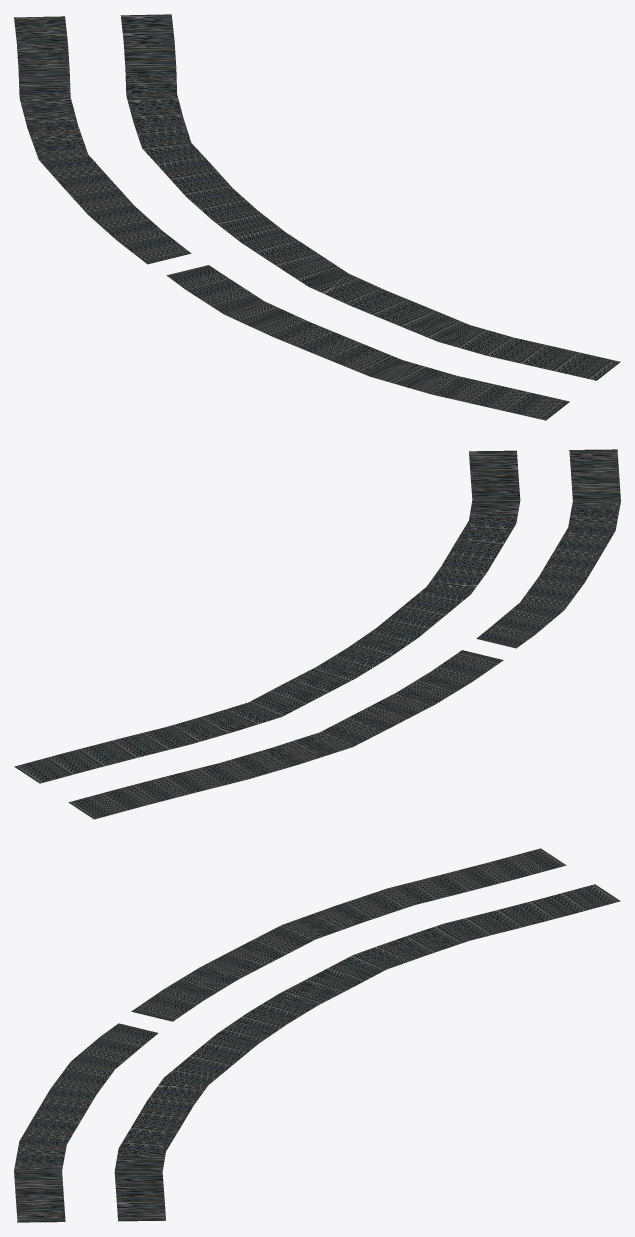
File: Ground1Exit.glb
The picture shows the model from 3 angles, top to bottom: view 1: azimuth 30°, elevation 25°; view 2: azimuth 150°, elevation 25°; view 3: azimuth 330°, elevation 25°; orthographic projection. The views are drawn at different scales.
Parts seen in each view (by area): view 1: CSGBakedMeshInstance3D; view 2: CSGBakedMeshInstance3D; view 3: CSGBakedMeshInstance3D.
Part boxes in pixels (left/top/right/bottom): CSGBakedMeshInstance3D: left=14, top=14, right=620, bottom=420; CSGBakedMeshInstance3D: left=14, top=449, right=620, bottom=819; CSGBakedMeshInstance3D: left=14, top=848, right=620, bottom=1222.
Bounding box in the file's own units: 79.65 × 0.6196 × 276.
Materials: 1 (1 with a texture image).
